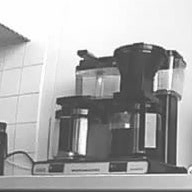empty coffee: (49, 107, 100, 160)
